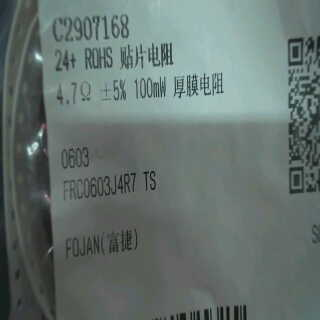4.7R: (53, 77, 93, 107)
